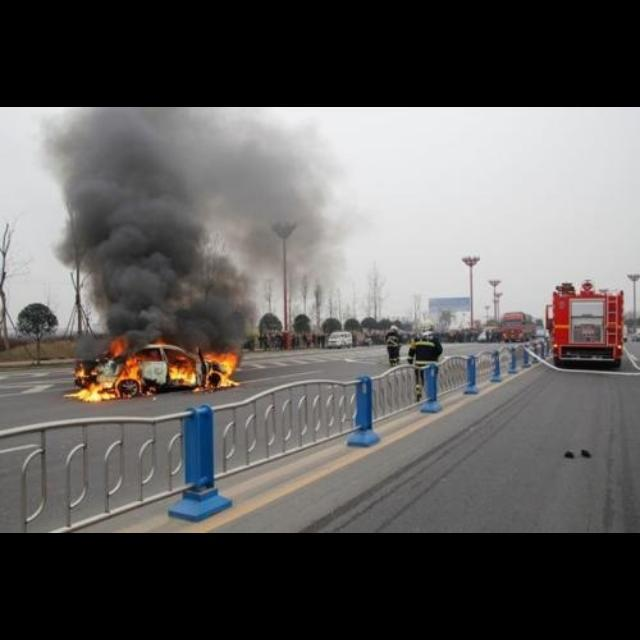Fire: (63, 333, 143, 402), (166, 350, 242, 392)
Smoke: (30, 108, 360, 362)
